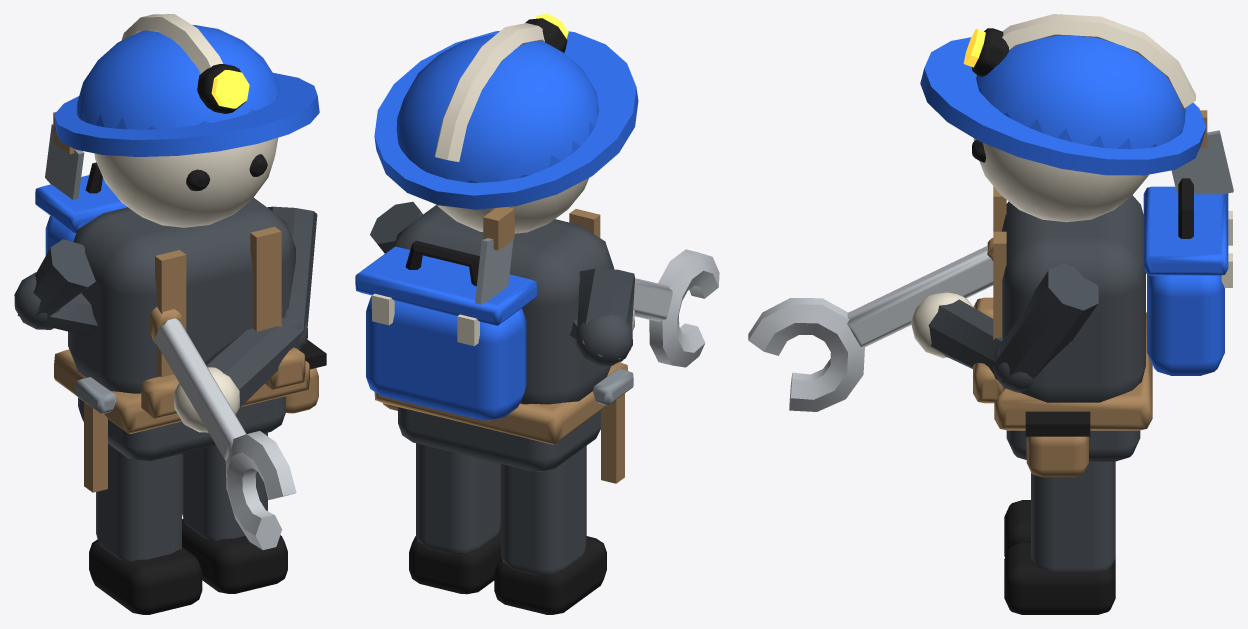
File: engineer.glb
3 views of the same model, side by side, from view 1: azimuth 30°, elevation 25°; view 2: azimuth 150°, elevation 25°; view 3: azimuth 270°, elevation 25° (orthographic).
Visible parts, largest first — view 1: turret__M_SmokePlastic, engineer_hardhat__M_Team, arms__M_SmokePlastic, barrel__M_Foil, head__M_CreamPlastic, leg_r__M_SmokePlastic, turret__M_Kraft, hips__M_Kraft, leg_r__M_Licorice, leg_l__M_Licorice, leg_l__M_SmokePlastic, hips__M_SmokePlastic (+10 smaller); view 2: engineer_hardhat__M_Team, pack__M_Team, turret__M_SmokePlastic, leg_r__M_SmokePlastic, leg_l__M_SmokePlastic, arms__M_SmokePlastic, hips__M_Kraft, hips__M_SmokePlastic, barrel__M_Foil, leg_r__M_Licorice, engineer_hardhat__M_CreamPlastic, leg_l__M_Licorice (+8 smaller); view 3: engineer_hardhat__M_Team, turret__M_SmokePlastic, pack__M_Team, barrel__M_Foil, arms__M_SmokePlastic, leg_l__M_SmokePlastic, head__M_CreamPlastic, hips__M_Kraft, leg_l__M_Licorice, engineer_hardhat__M_CreamPlastic, turret__M_Kraft, pack__M_SpringSteel (+6 smaller).
Boxes of the visible parts, bbox=[...] form: turret__M_SmokePlastic: bbox=[68, 197, 295, 393]; engineer_hardhat__M_Team: bbox=[54, 25, 319, 156]; arms__M_SmokePlastic: bbox=[14, 206, 317, 407]; barrel__M_Foil: bbox=[154, 318, 296, 549]; head__M_CreamPlastic: bbox=[94, 138, 278, 227]; leg_r__M_SmokePlastic: bbox=[96, 444, 181, 561]; turret__M_Kraft: bbox=[141, 227, 305, 418]; hips__M_Kraft: bbox=[54, 349, 318, 492]; leg_r__M_Licorice: bbox=[89, 539, 202, 614]; leg_l__M_Licorice: bbox=[182, 518, 287, 593]; leg_l__M_SmokePlastic: bbox=[182, 432, 267, 540]; hips__M_SmokePlastic: bbox=[78, 396, 285, 460]; engineer_hardhat__M_Team: bbox=[374, 31, 638, 209]; pack__M_Team: bbox=[355, 246, 536, 420]; turret__M_SmokePlastic: bbox=[392, 204, 614, 404]; leg_r__M_SmokePlastic: bbox=[501, 446, 586, 575]; leg_l__M_SmokePlastic: bbox=[416, 443, 501, 554]; arms__M_SmokePlastic: bbox=[370, 201, 634, 366]; hips__M_Kraft: bbox=[374, 362, 628, 483]; hips__M_SmokePlastic: bbox=[398, 407, 600, 471]; barrel__M_Foil: bbox=[633, 249, 719, 367]; leg_r__M_Licorice: bbox=[494, 536, 606, 614]; engineer_hardhat__M_CreamPlastic: bbox=[434, 23, 544, 161]; leg_l__M_Licorice: bbox=[409, 525, 501, 594]; engineer_hardhat__M_Team: bbox=[920, 35, 1205, 175]; turret__M_SmokePlastic: bbox=[1001, 195, 1145, 402]; pack__M_Team: bbox=[1143, 186, 1228, 375]; barrel__M_Foil: bbox=[748, 245, 993, 411]; arms__M_SmokePlastic: bbox=[928, 263, 1098, 392]; leg_l__M_SmokePlastic: bbox=[1031, 461, 1115, 571]; head__M_CreamPlastic: bbox=[973, 138, 1148, 222]; hips__M_Kraft: bbox=[994, 312, 1152, 477]; leg_l__M_Licorice: bbox=[1004, 542, 1115, 614]; engineer_hardhat__M_CreamPlastic: bbox=[1002, 14, 1195, 108]; turret__M_Kraft: bbox=[973, 186, 1006, 403]; pack__M_SpringSteel: bbox=[1171, 130, 1233, 194].
Bounding box in the file's own units: 0.291 × 0.56 × 0.4353.
